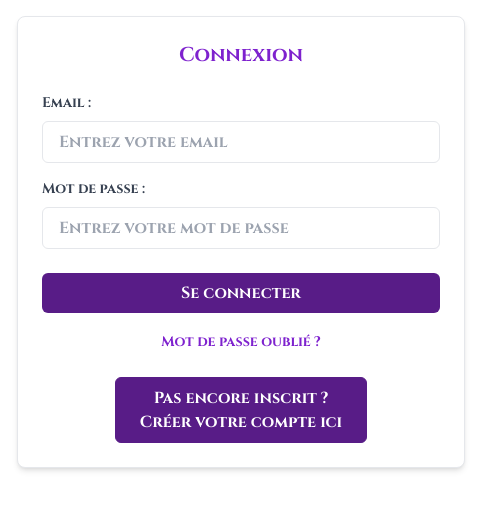
Test case: Connexion.vue › appelle la méthode de connexion du store avec les bonnes informations et affiche un message de succès
The image size is (483, 529).
Type "user@example.com" into the field labelled "Email :".
click(241, 142); type("user@example.com")  # box [42,121,440,163]
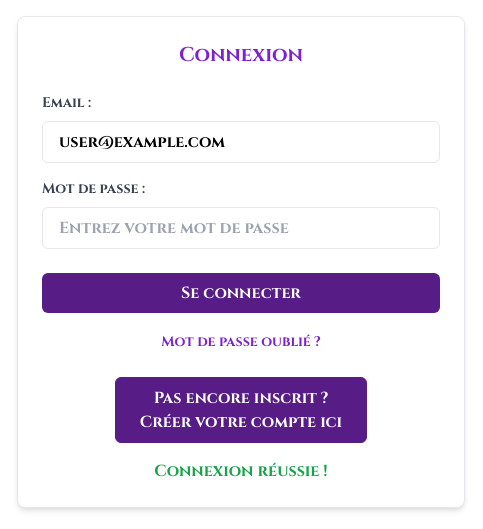
Type "mysecretpassword" into the password field labelled "Mot de passe :".
click(241, 228); type("mysecretpassword")  # box [42,207,440,249]
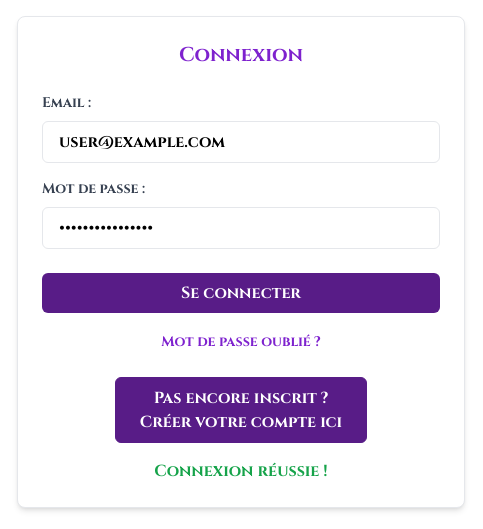
Click the button "Se connecter".
click(241, 293)  # box [42,273,440,313]
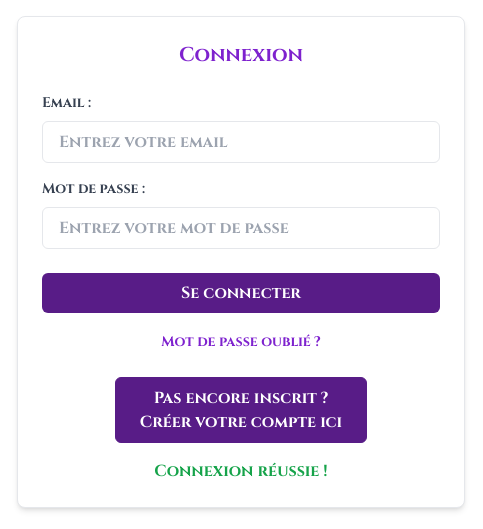
Check: the text "Connexion réussie !" is shown, box [154,460,328,482]
Check: the field labelled "Email :" is empty, box [42,121,440,163]
Check: the password field labelled "Mot de passe :" is empty, box [42,207,440,249]
